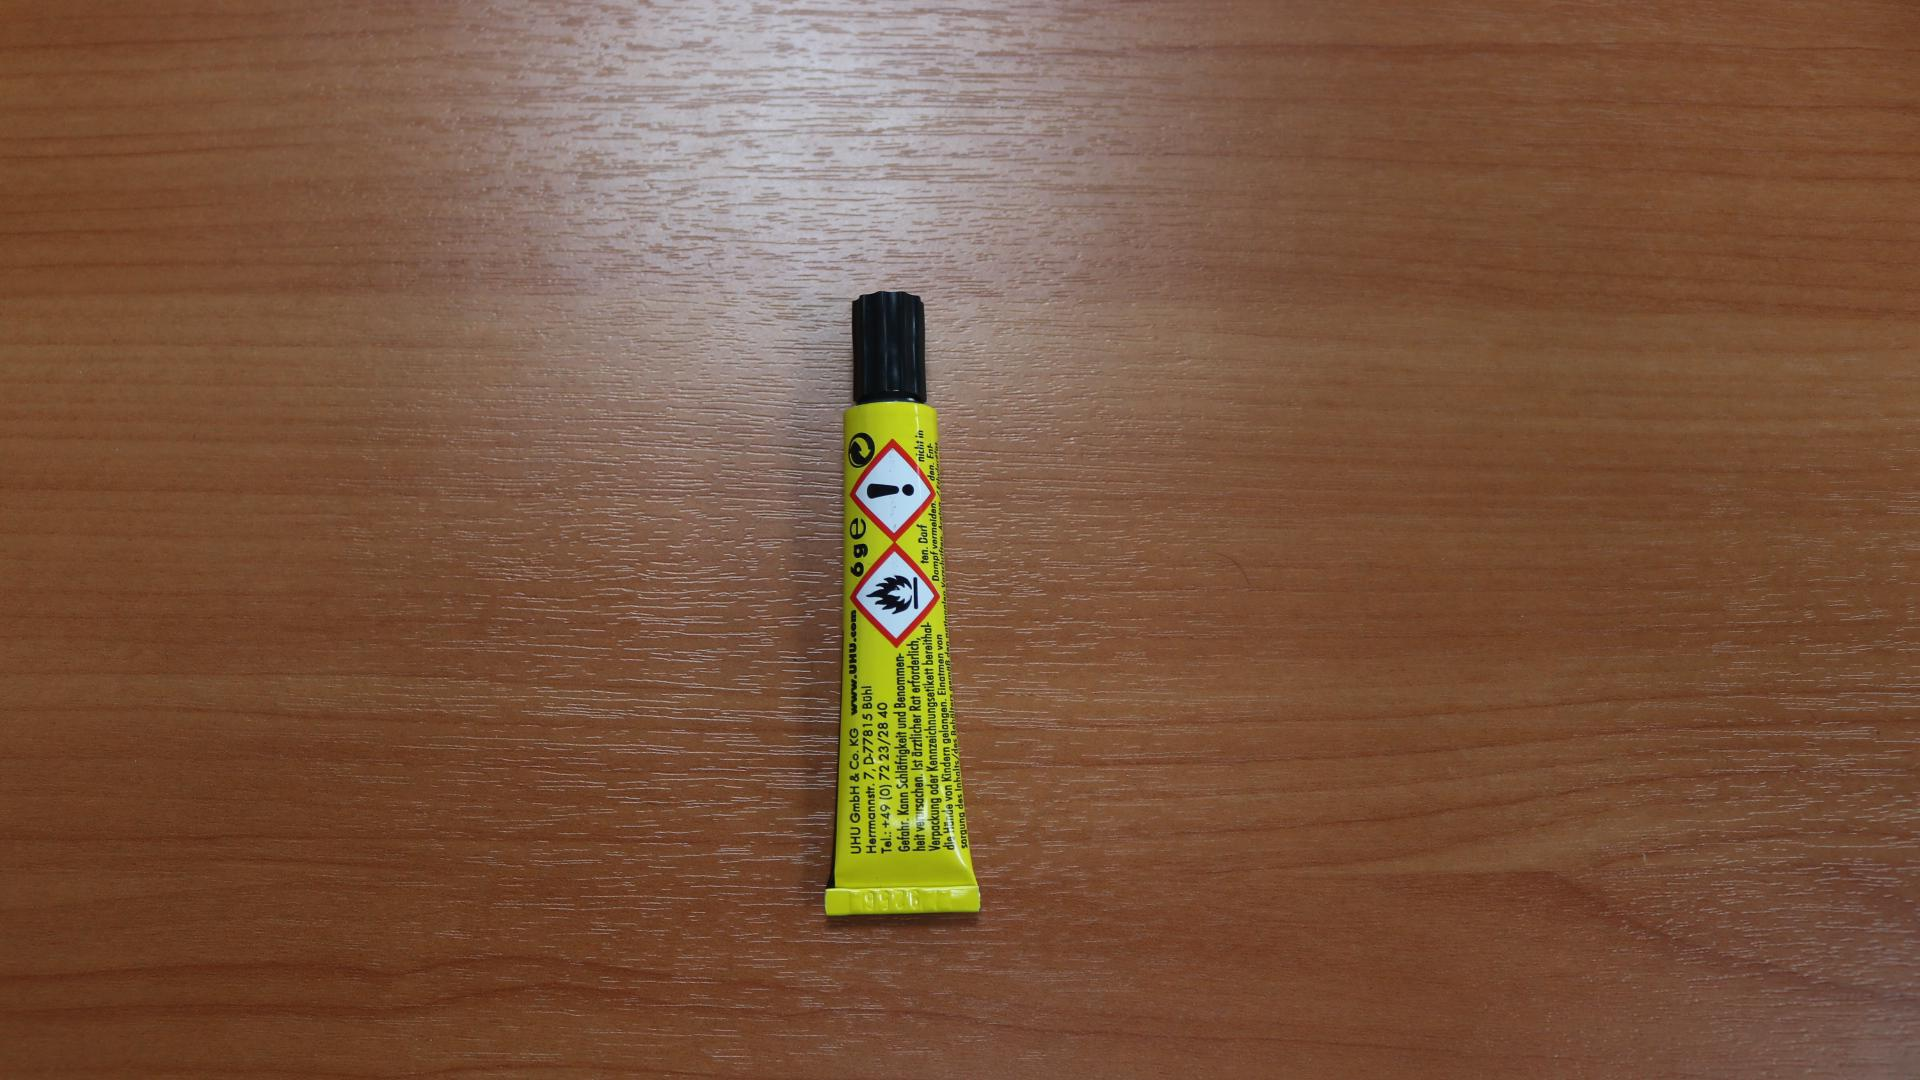Head: (883, 334, 899, 359)
Tail: (890, 892, 913, 912)
Tube: (822, 291, 986, 916)
